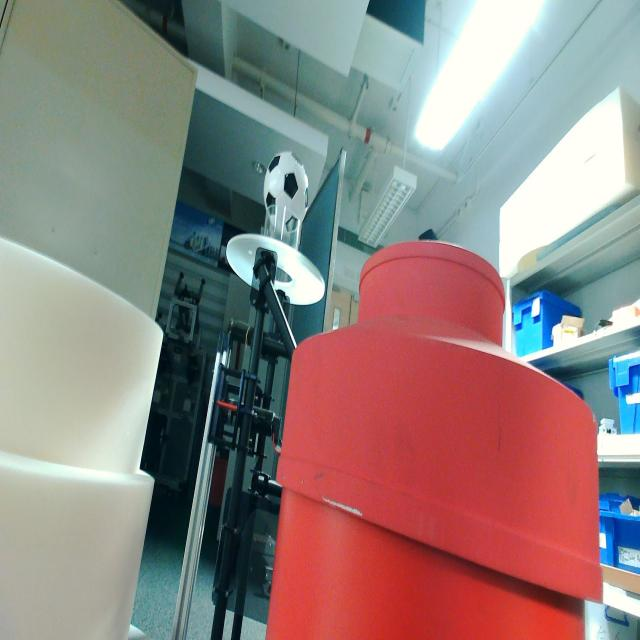ball: (262, 147, 311, 237)
